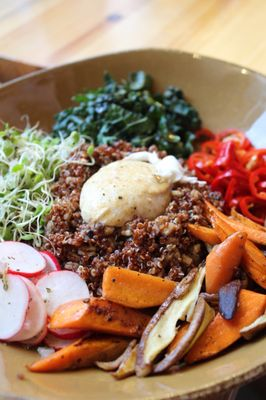curry: (53, 70, 202, 158)
sushi: (0, 38, 265, 400)
